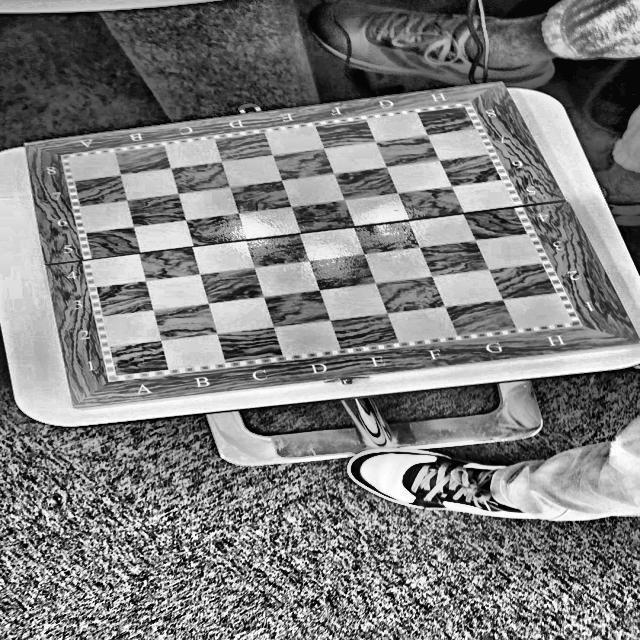chessboard: (60, 100, 583, 383)
p1: (112, 369, 121, 377)
p2: (64, 156, 80, 162)
p3: (462, 103, 468, 112)
p4: (562, 316, 574, 322)
